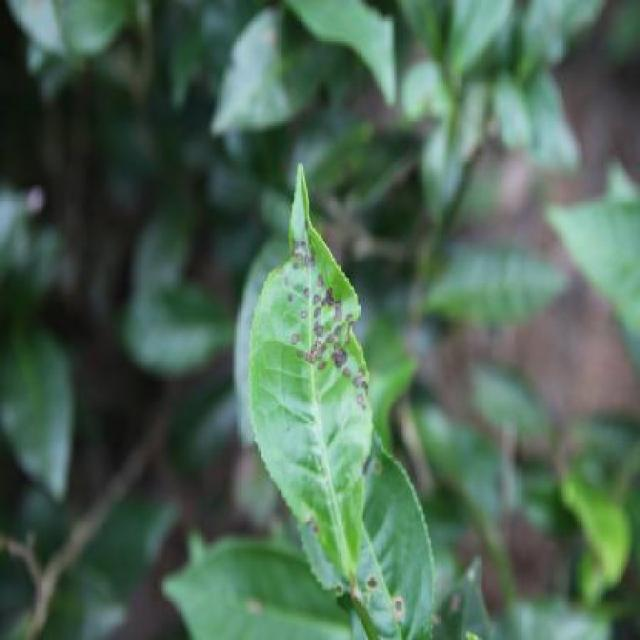Tea Mosquito bug infested leaf: (250, 134, 372, 563)
